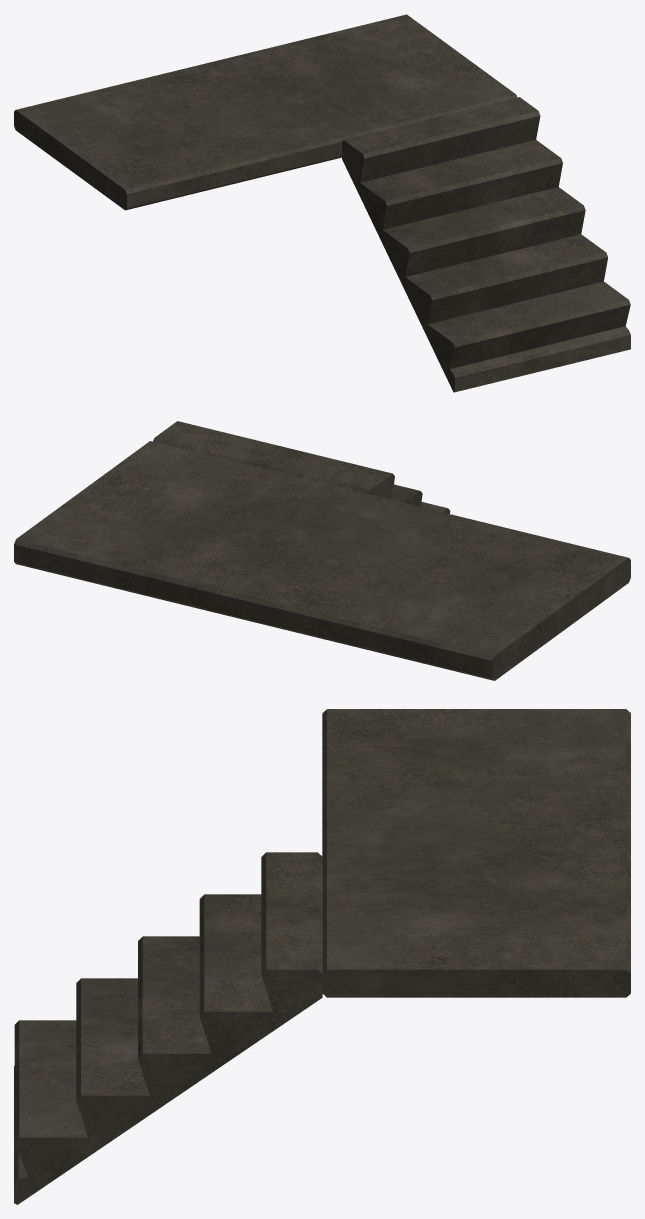
File: stairs_1.fbx
3 renders of one model, top to bottom at view 1: azimuth 30°, elevation 25°; view 2: azimuth 150°, elevation 25°; view 3: azimuth 270°, elevation 25°, orthographic. The views are drawn at different scales.
Parts seen in each view (by area): view 1: stairs_1; view 2: stairs_1; view 3: stairs_1.
Part boxes in pixels (x1=…): stairs_1: x1=14, y1=14, x2=630, y2=392; stairs_1: x1=14, y1=421, x2=630, y2=680; stairs_1: x1=14, y1=709, x2=630, y2=1204.
Size of the model in its own units: 4 by 4 by 1.68.
